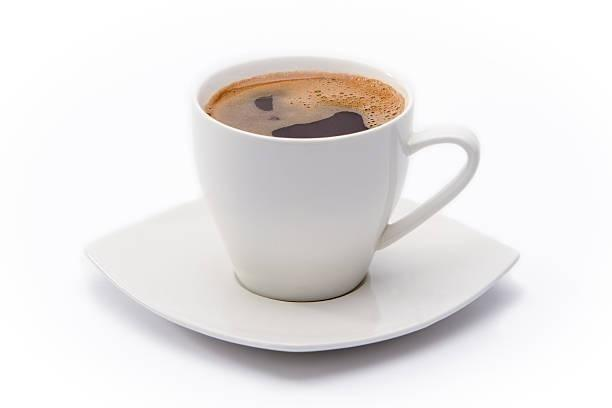cup-handle: (189, 52, 482, 303)
